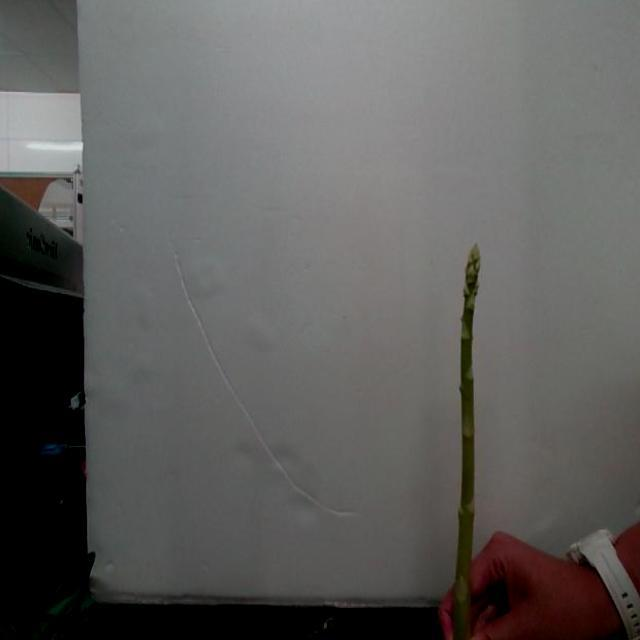aspargus: (460, 247, 483, 583)
